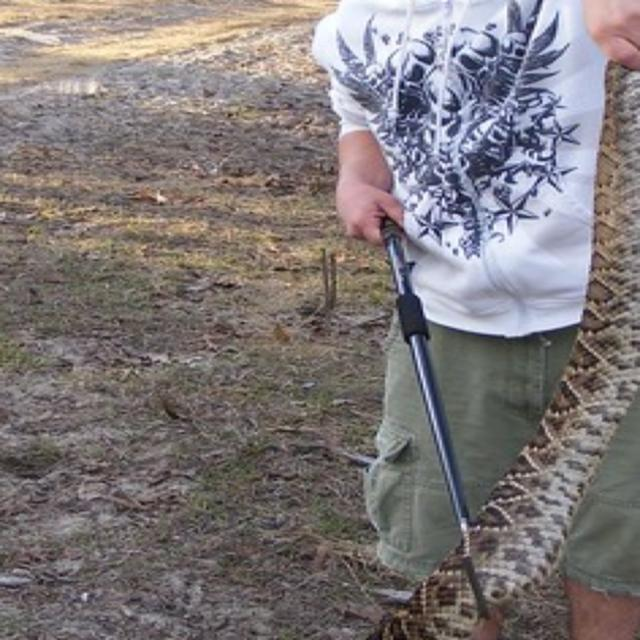snake: (282, 0, 640, 640)
